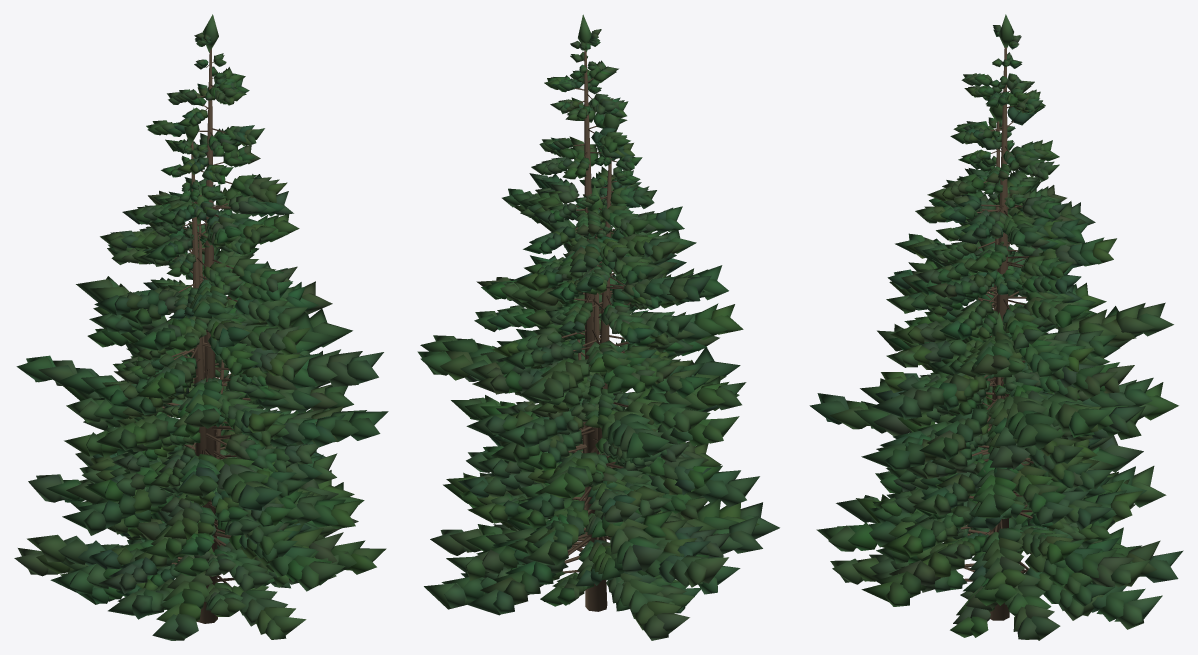
Rendered from forest-v1.glb.
3 views of the same model, side by side, from view 1: azimuth 30°, elevation 25°; view 2: azimuth 150°, elevation 25°; view 3: azimuth 270°, elevation 25° (orthographic). The views are drawn at different scales.
Visible parts, largest first — view 1: silver_fir_lod0, scots_pine_lod0, alpine_spruce_lod0, mountain_pine_lod0; view 2: silver_fir_lod0, scots_pine_lod0, alpine_spruce_lod0, mountain_pine_lod0; view 3: silver_fir_lod0, scots_pine_lod0, alpine_spruce_lod0, mountain_pine_lod0.
Part boxes in pixels (left/top/right/bottom): silver_fir_lod0: left=14, top=14, right=386, bottom=640; scots_pine_lod0: left=16, top=187, right=388, bottom=510; alpine_spruce_lod0: left=60, top=107, right=324, bottom=596; mountain_pine_lod0: left=27, top=303, right=364, bottom=619; silver_fir_lod0: left=424, top=14, right=779, bottom=640; scots_pine_lod0: left=417, top=185, right=746, bottom=499; alpine_spruce_lod0: left=466, top=113, right=730, bottom=612; mountain_pine_lod0: left=443, top=297, right=762, bottom=606; silver_fir_lod0: left=816, top=14, right=1183, bottom=640; scots_pine_lod0: left=809, top=172, right=1178, bottom=470; alpine_spruce_lod0: left=872, top=93, right=1124, bottom=637; mountain_pine_lod0: left=868, top=312, right=1142, bottom=610.
Size of what is drawn, in the model's own units: 9.46 by 17.66 by 9.86.
